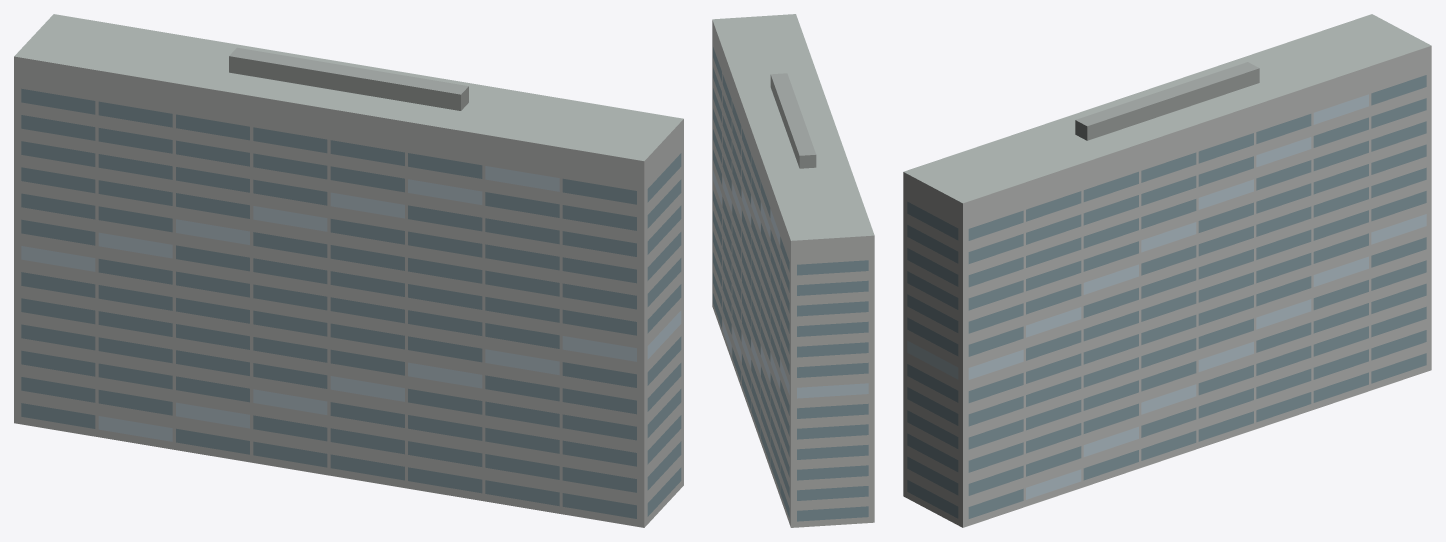
File: fallback-olympic-athletes-village-241.glb
3 renders of one model, left to right at view 1: azimuth 30°, elevation 25°; view 2: azimuth 150°, elevation 25°; view 3: azimuth 270°, elevation 25°, orthographic. The views are drawn at different scales.
Visible parts, largest first — view 1: fallback-olympic-athletes-village-241; view 2: fallback-olympic-athletes-village-241; view 3: fallback-olympic-athletes-village-241.
Boxes of the visible parts, left/top/right/bottom form: fallback-olympic-athletes-village-241: left=14, top=14, right=683, bottom=527; fallback-olympic-athletes-village-241: left=712, top=14, right=874, bottom=527; fallback-olympic-athletes-village-241: left=903, top=14, right=1431, bottom=527.
Size of the model in its own units: 53.45 by 44.62 by 63.01.
